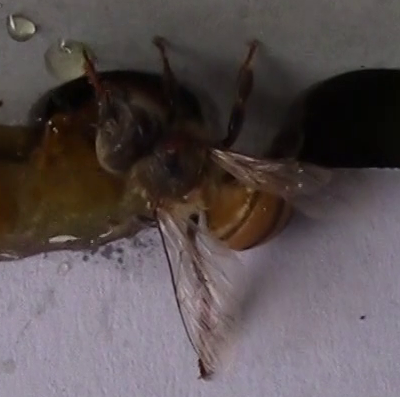Varroa destructor: (159, 131, 192, 153)
